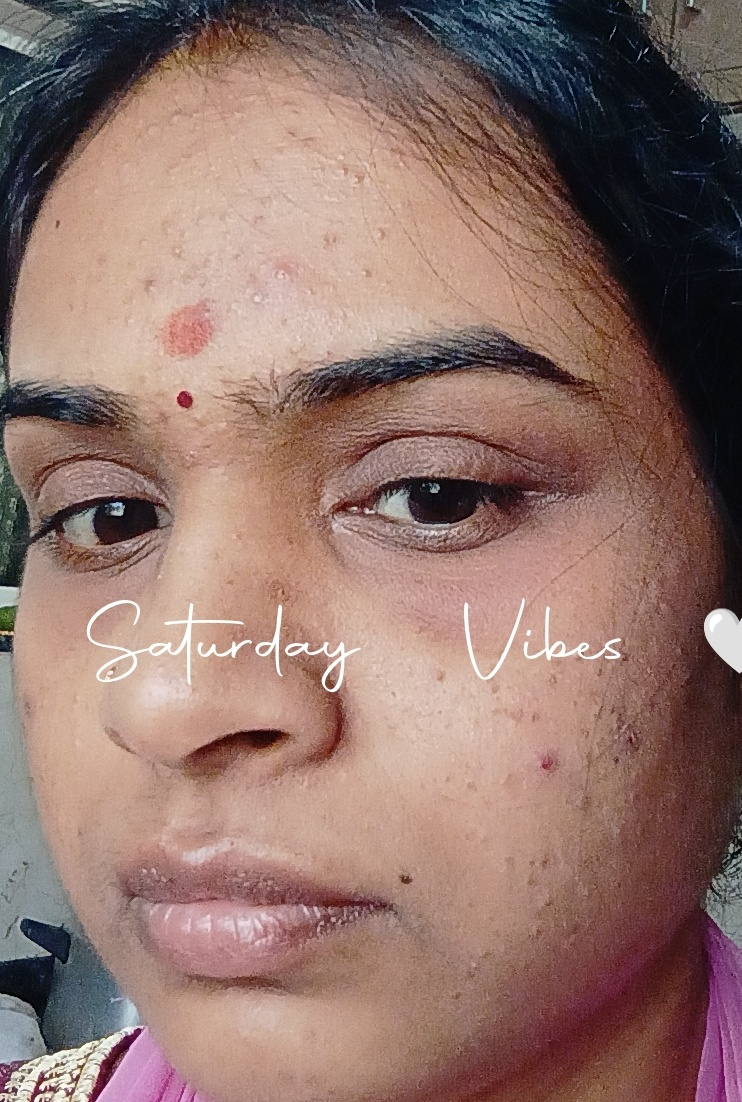closed_comedone: (317, 163, 412, 208), (346, 246, 417, 294), (525, 892, 592, 934), (223, 283, 292, 323), (128, 276, 179, 306), (150, 239, 201, 268)
papule: (521, 734, 592, 781)
